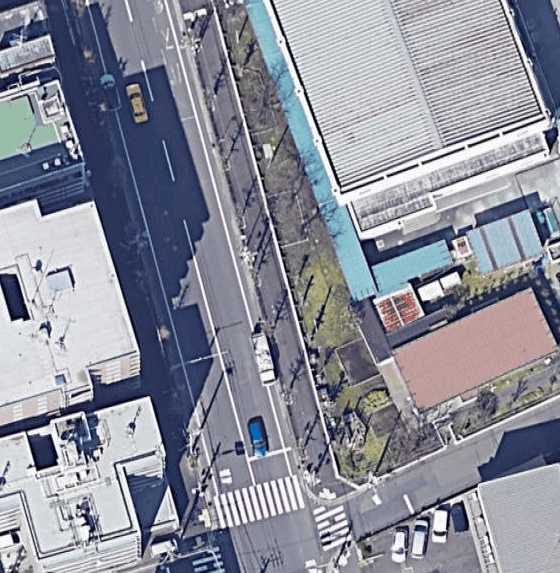facility: (5, 388, 184, 564)
flatroof: (0, 184, 131, 409)
